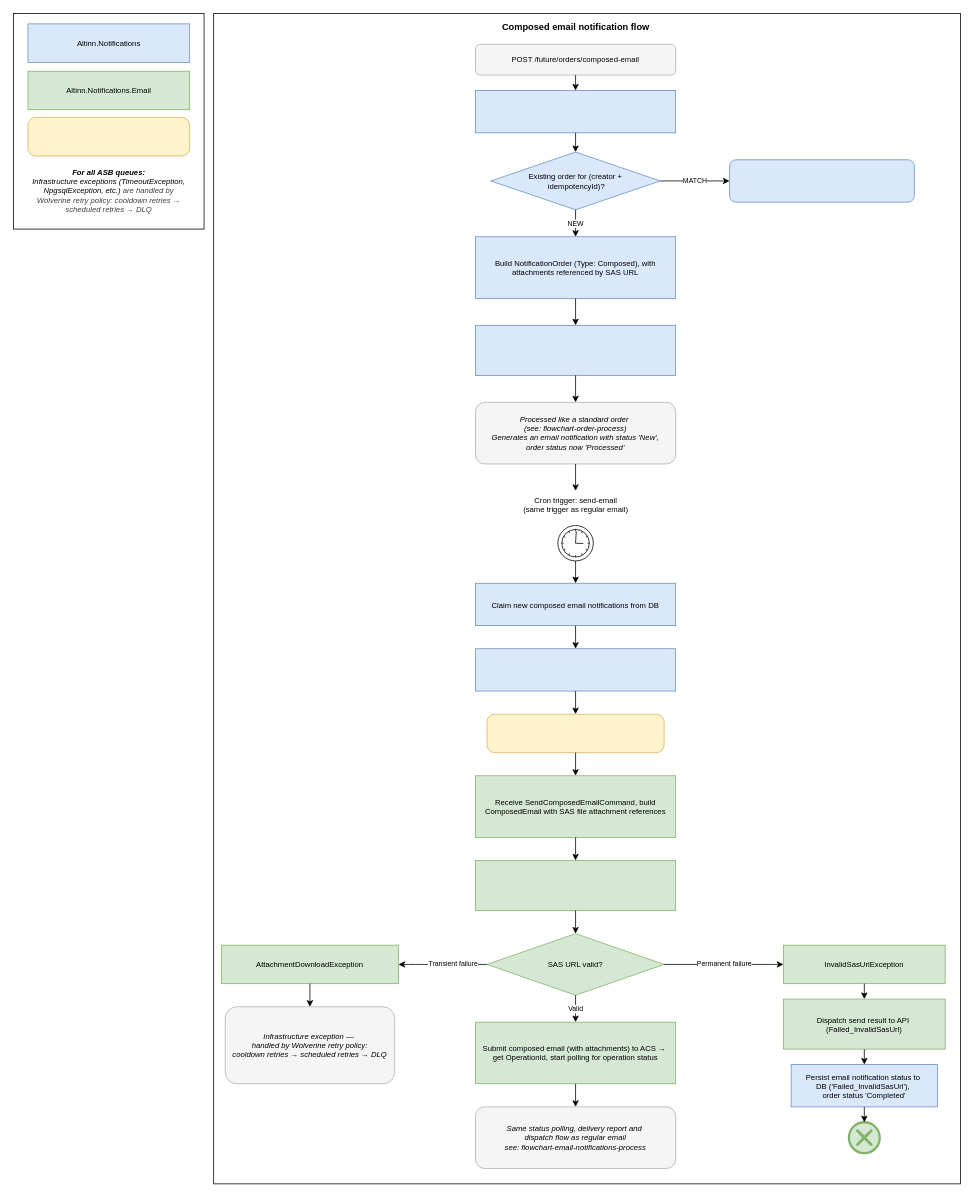
Some shapes in this 974 by 1197 pixel diagram are drawn without their labels. Each missing label, with the centre of its shape:
"altinn.notifications.composedemail.send" belongs at (575,733).
"Azure Service Bus queue" belongs at (108,136).
"Download each attachment from its SAS URL (parallel, limited concurrency)" belongs at (575,885).
"Persist order to DB (status: 'Registered') → Return 201 Created" belongs at (575,350).
"Publish SendComposedEmailCommand to ASB queue" belongs at (575,669).
"Return 200 OK with existing order chain details" belongs at (821,180).
"Terminal status for the email notification" belongs at (864,1137).
"Validate request, extract creator (org)" belongs at (575,111).
